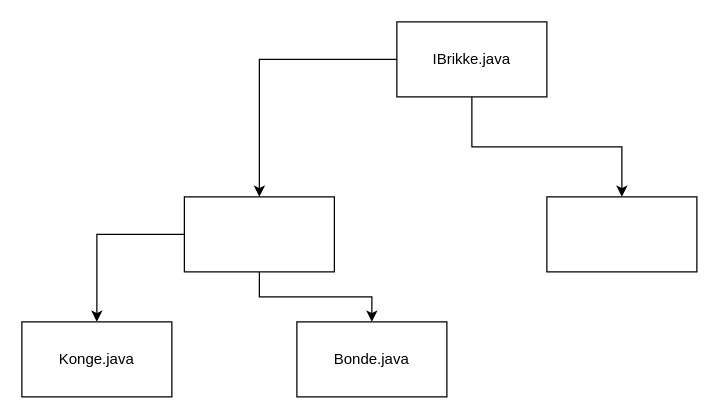
This 719x419 diagram has some shape labels left out. The centre of each missing label's shape, as x and y in pixels:
"DamBrikke.java" belongs at (621,234).
"SjakkBrikke.java" belongs at (258,234).
